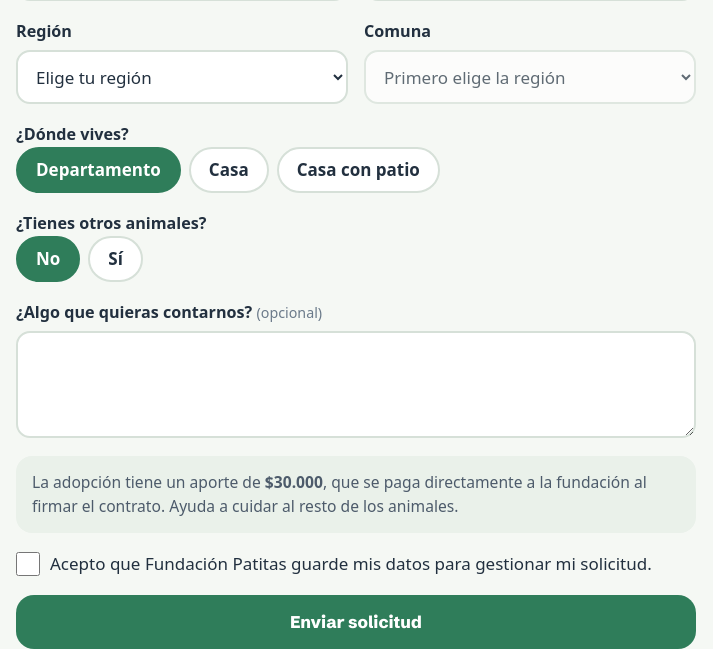
Test: Adoption request › shows the backend's message next to each field
(page scrolled)
Step 1. Click the button "Enviar solicitud" → (356, 622), box [16,595,696,648]
(page scrolled)
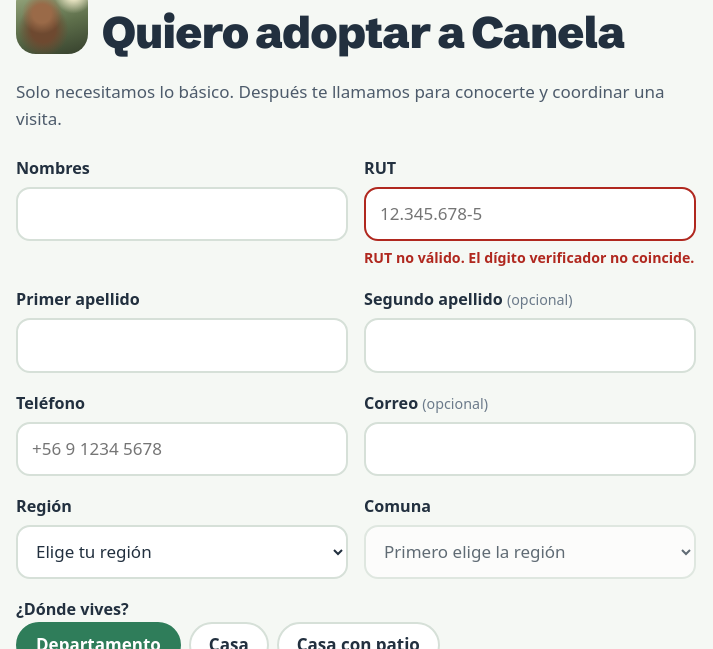
Result: the text "RUT no válido. El dígito verificador no coincide." is shown at [364,247,696,269]
